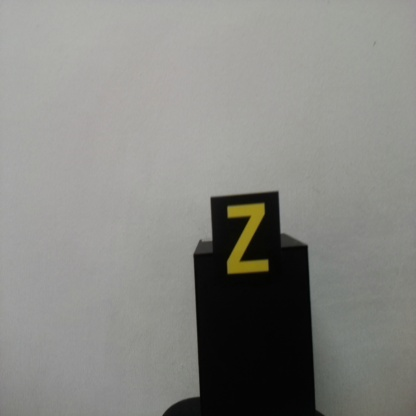id_15: (212, 196, 281, 290)
